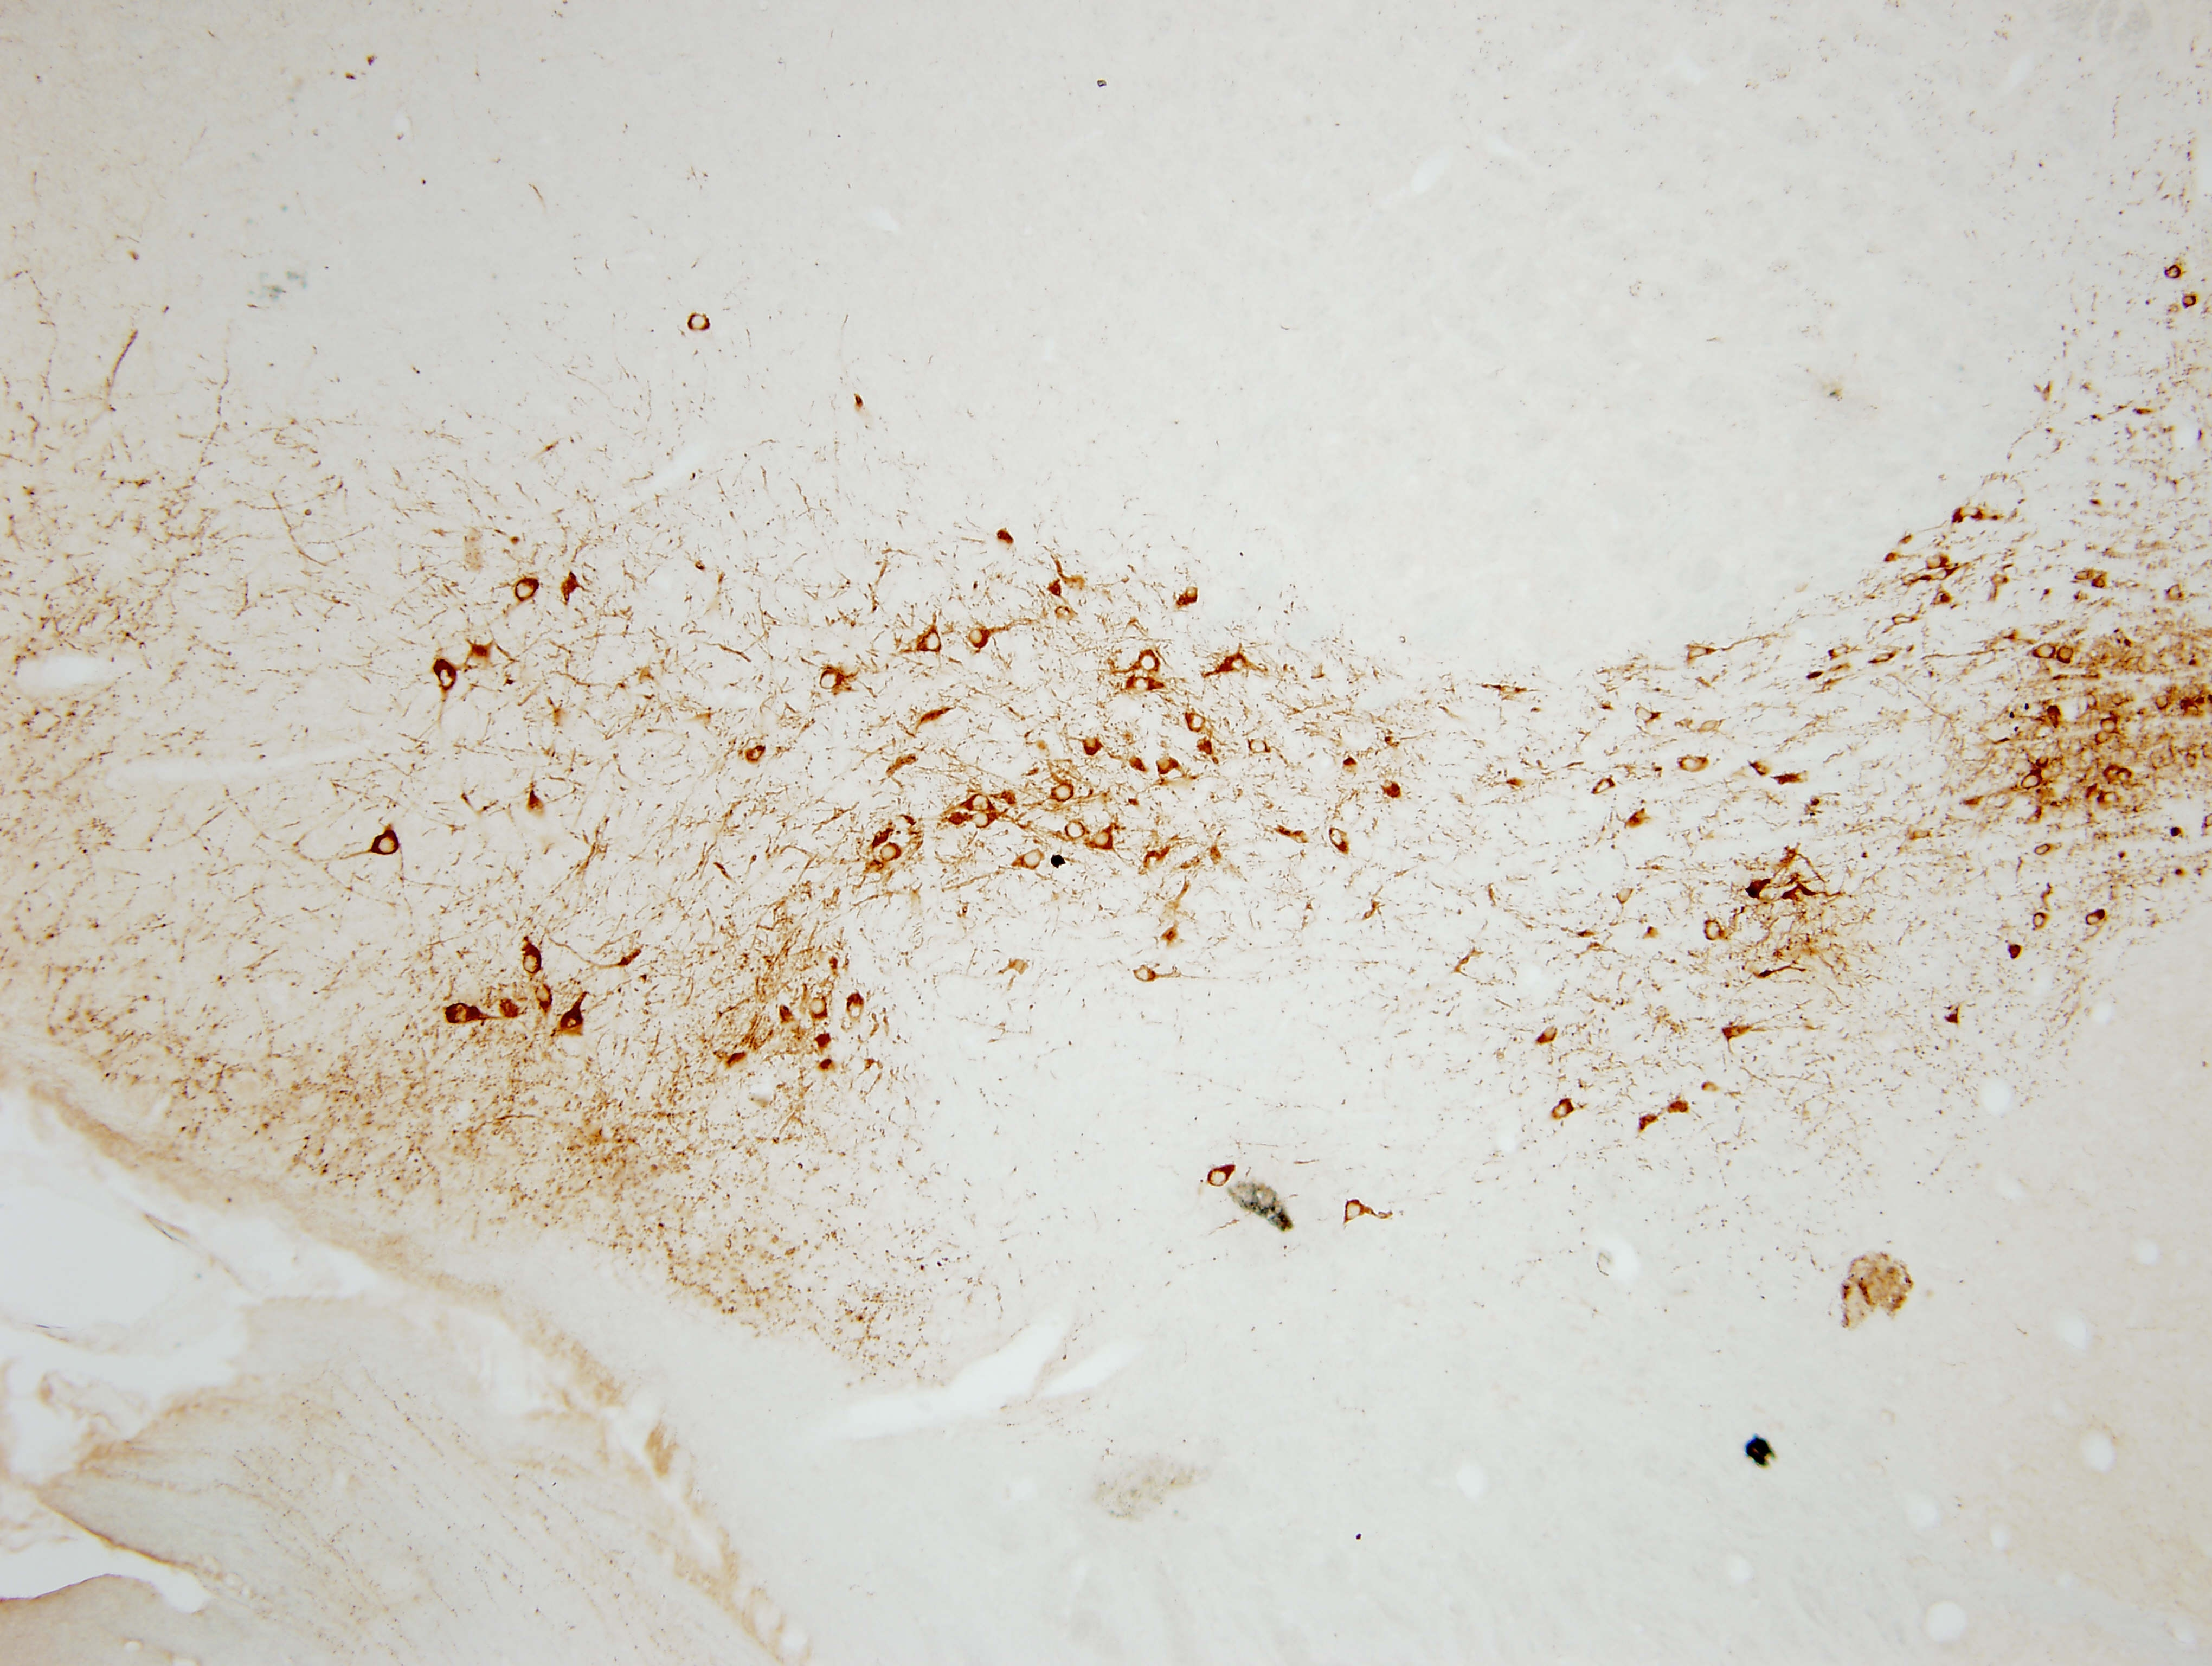neuron: (687, 310, 713, 336), (808, 996, 834, 1022), (820, 668, 846, 695), (845, 996, 871, 1022), (878, 840, 904, 866), (922, 630, 948, 656), (967, 791, 993, 817), (972, 805, 998, 831), (1021, 847, 1047, 873), (1051, 781, 1077, 807), (1065, 817, 1091, 843), (1091, 826, 1117, 852), (1130, 672, 1156, 698), (1131, 963, 1158, 989), (1137, 649, 1163, 676), (1182, 707, 1208, 733), (1207, 1164, 1233, 1190), (1329, 828, 1355, 854), (1341, 1197, 1367, 1223), (1591, 775, 1617, 801), (1680, 751, 1707, 777), (1686, 639, 1712, 665), (1698, 712, 1724, 738), (1701, 919, 1728, 945), (1869, 644, 1896, 670), (1890, 607, 1916, 633), (1923, 548, 1950, 574), (1957, 499, 1983, 525), (2020, 766, 2046, 793), (2032, 637, 2058, 663), (374, 831, 400, 858), (448, 1001, 474, 1027), (514, 578, 540, 604), (532, 982, 558, 1008), (965, 625, 990, 651), (1249, 735, 1275, 760), (1633, 705, 1659, 730), (1827, 639, 1852, 665), (434, 665, 460, 690), (519, 952, 546, 976), (2091, 728, 2112, 749), (2100, 786, 2121, 807), (748, 744, 768, 765), (1158, 754, 1177, 775), (1542, 1024, 1562, 1045), (2030, 912, 2051, 931), (2032, 840, 2053, 859), (2100, 716, 2121, 735), (2165, 583, 2184, 604), (1011, 957, 1030, 976), (1082, 735, 1102, 754), (1184, 583, 1203, 602), (1229, 656, 1249, 676), (1553, 1101, 1572, 1120), (1616, 886, 1635, 905), (2035, 753, 2055, 772), (2056, 646, 2076, 665), (2086, 906, 2105, 926), (2102, 765, 2121, 784), (2116, 766, 2135, 786), (2153, 693, 2172, 712), (2167, 264, 2186, 283), (2181, 292, 2200, 311)
